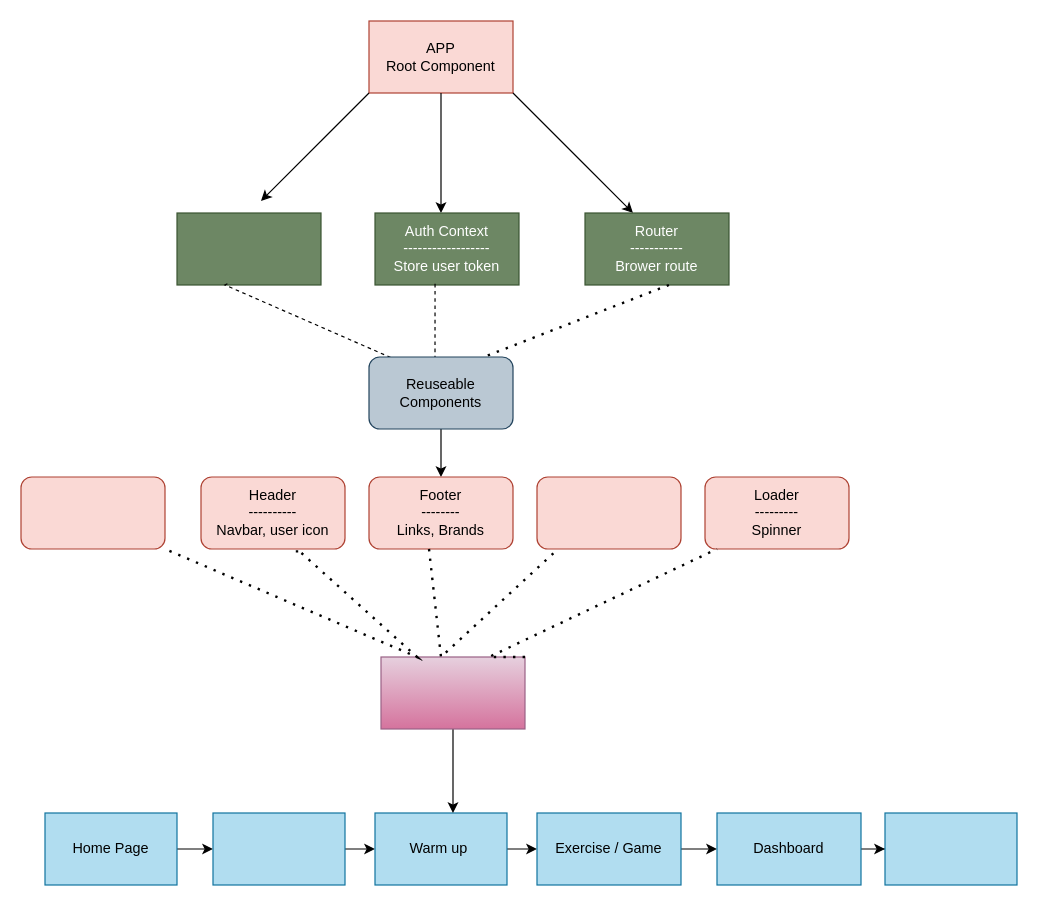
Image size: 1038x906. Some labels were removed from this diagram. The centre of each missing label's shape, as x and y in pixels:
"Button --------- Color, size, onClick" belongs at point 92,512.
"Error Banner --------------- Error display details" belongs at point 608,512.
"Leader Board" belongs at point 950,848.
"Login / Register" belongs at point 278,848.
"Pages" belongs at point 452,692.
"Theme Context --------------------- Light/Dark Mode" belongs at point 248,248.
